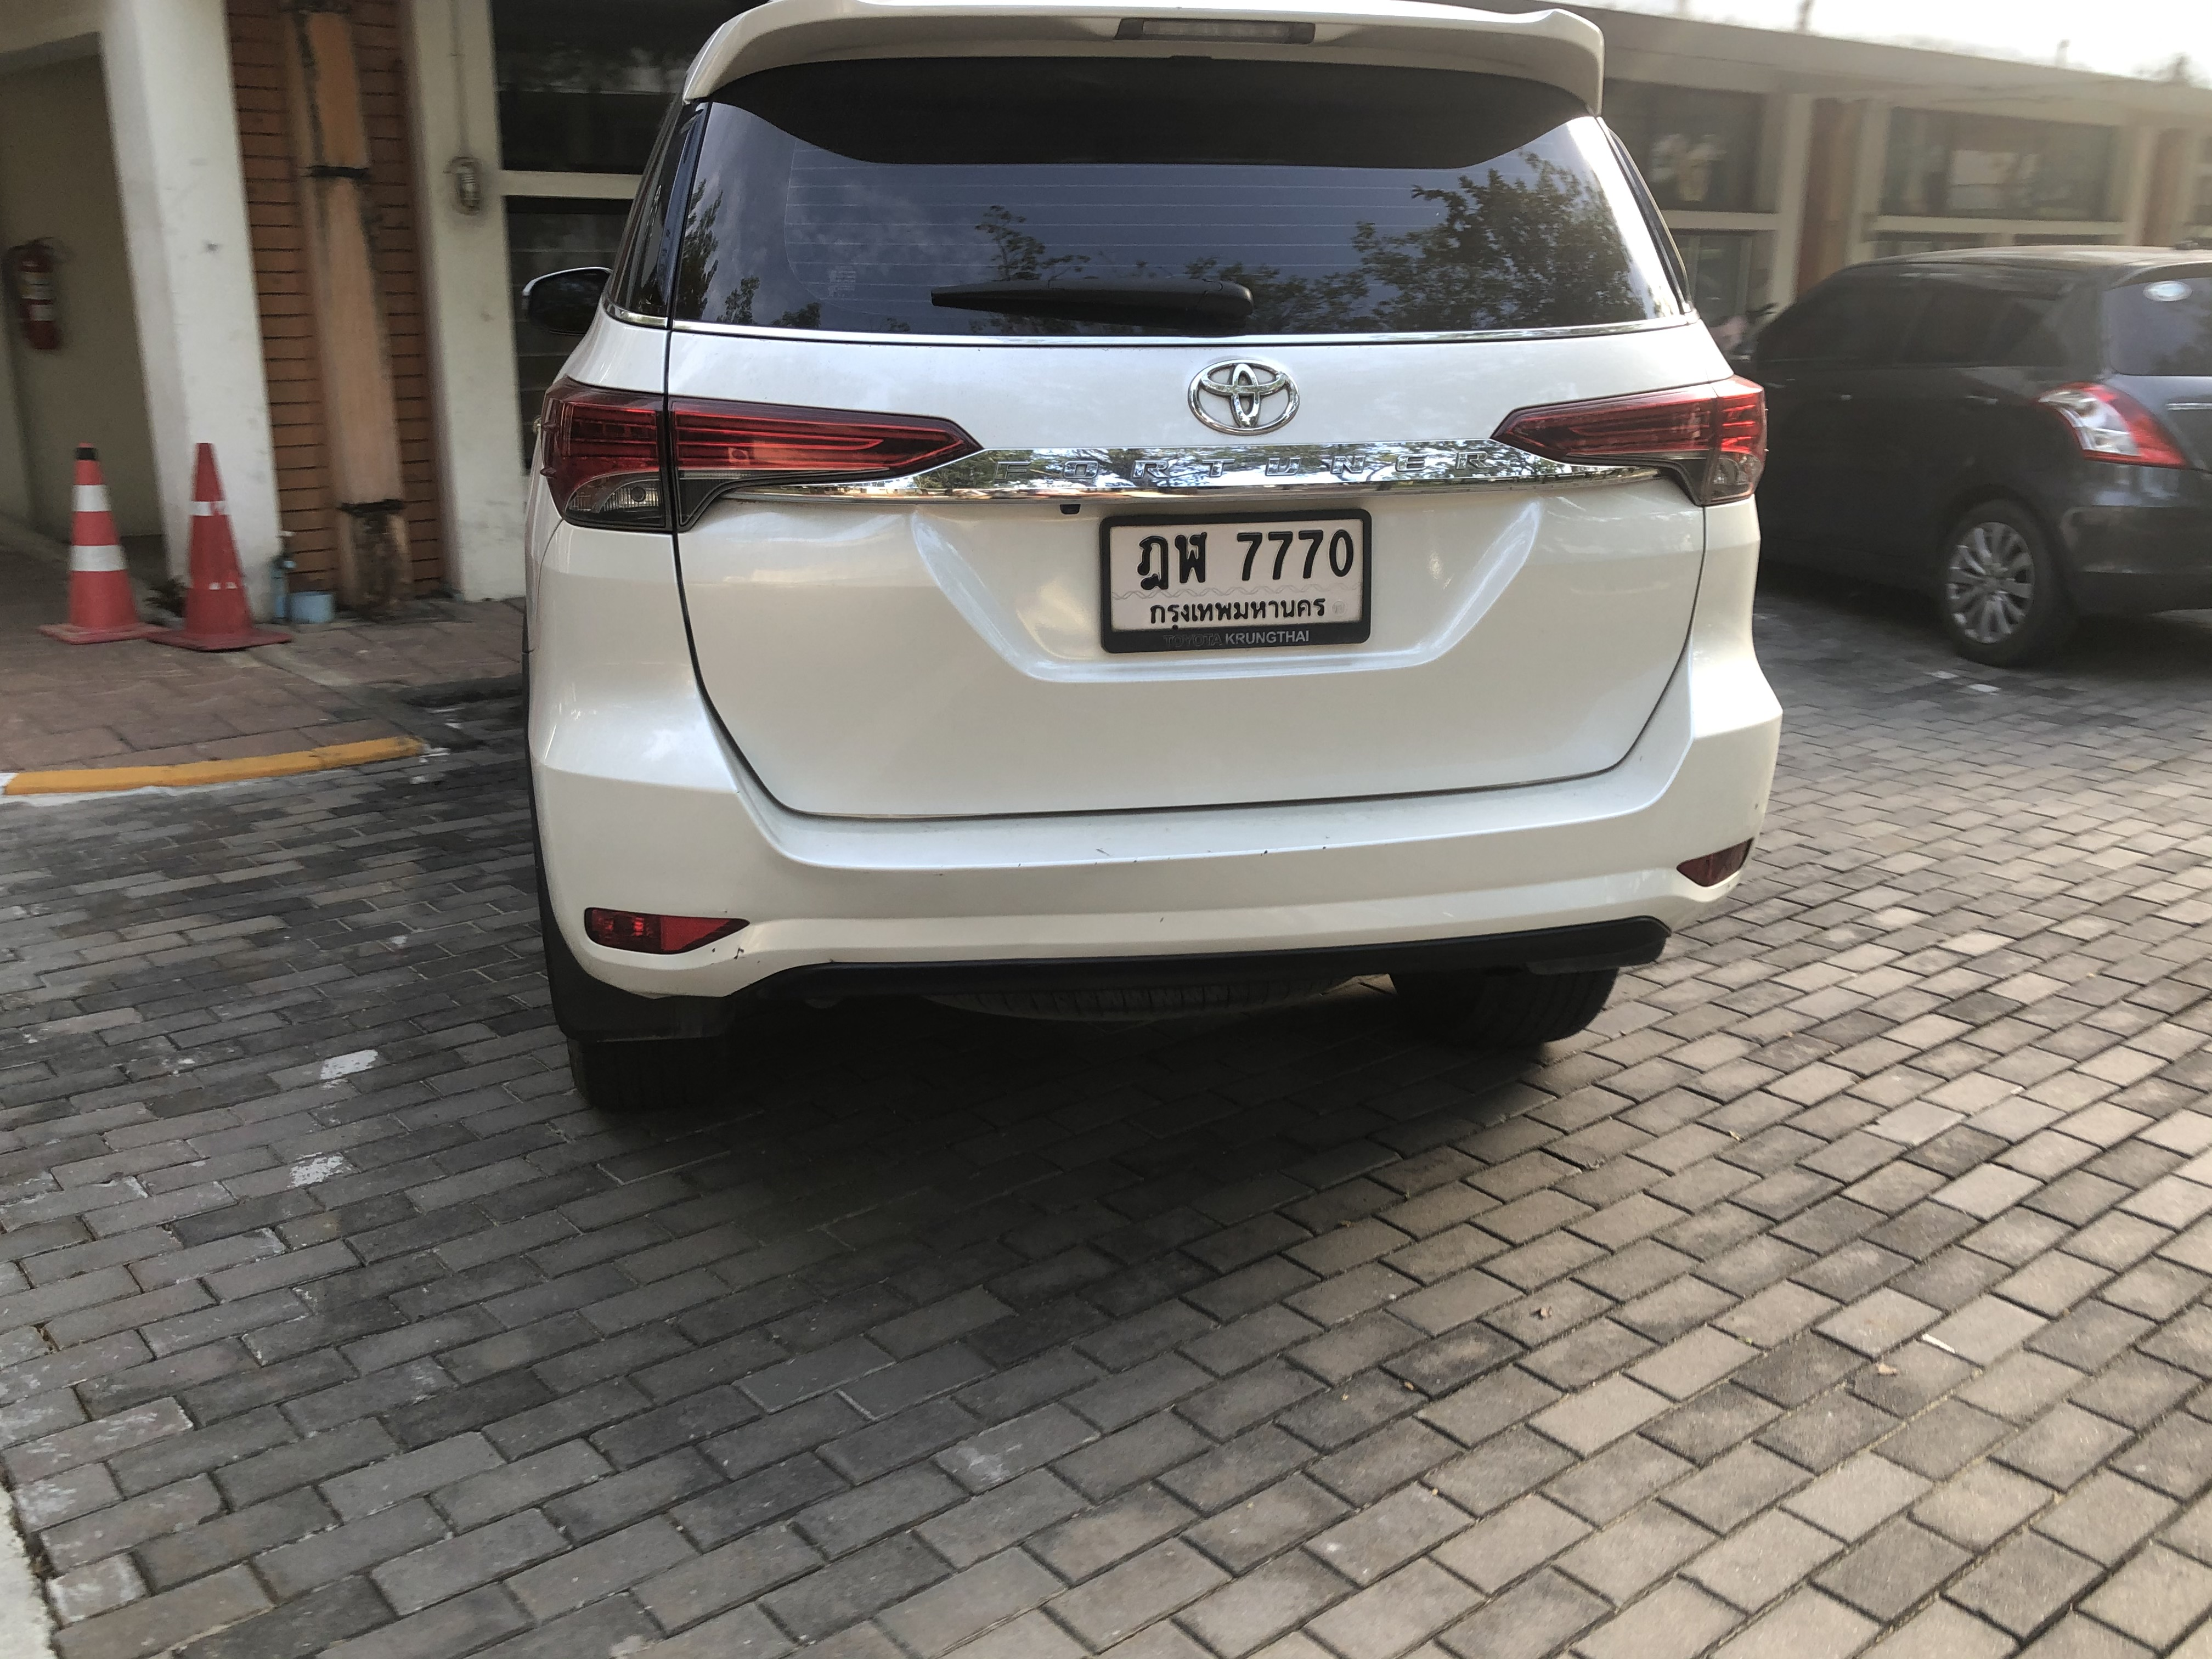in: (1108, 523, 1362, 626)
out: (1096, 507, 1378, 657)
